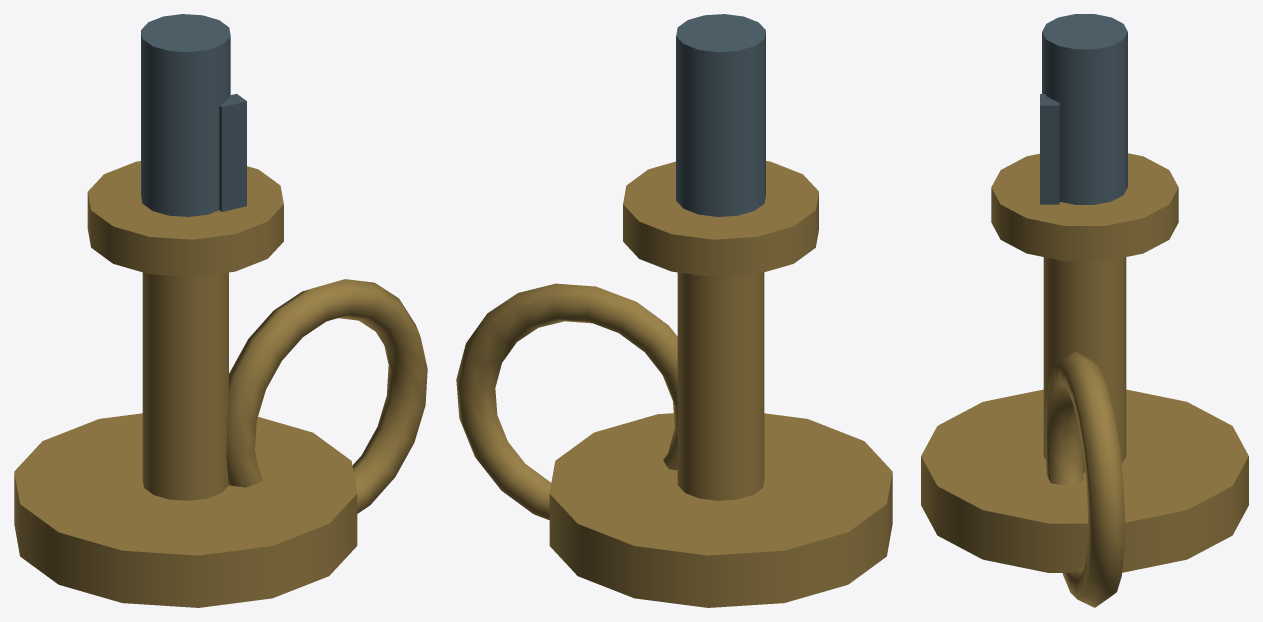
File: obj-candlestick.glb
3 renders of one model, left to right at view 1: azimuth 30°, elevation 25°; view 2: azimuth 150°, elevation 25°; view 3: azimuth 270°, elevation 25°, orthographic. The views are drawn at different scales.
Visible parts, largest first — view 1: obj-candlestick-brass, obj-candlestick-blue; view 2: obj-candlestick-brass, obj-candlestick-blue; view 3: obj-candlestick-brass, obj-candlestick-blue.
Part boxes in pixels (left/top/right/bottom): obj-candlestick-brass: left=14, top=161, right=427, bottom=607; obj-candlestick-blue: left=141, top=14, right=246, bottom=216; obj-candlestick-brass: left=456, top=161, right=892, bottom=607; obj-candlestick-blue: left=676, top=14, right=765, bottom=216; obj-candlestick-brass: left=921, top=153, right=1248, bottom=607; obj-candlestick-blue: left=1040, top=14, right=1127, bottom=204.
Size of the model in its own units: 0.5559 by 0.7094 by 0.42.
